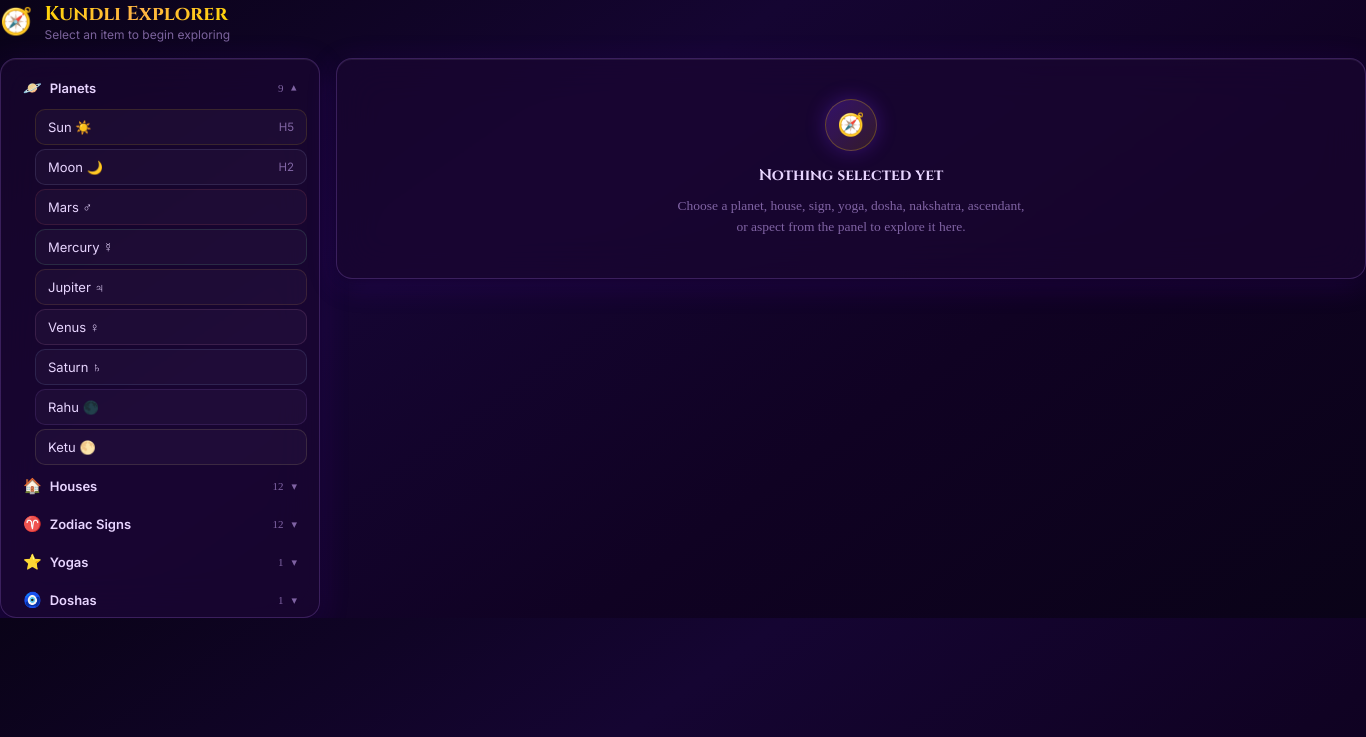
Test: Explorer selection state › selecting a different type replaces the previous selection instead of stacking
Click the list item "Sun ☀️ H5". click: {"x": 70, "y": 127}
box: [35,109,307,145]
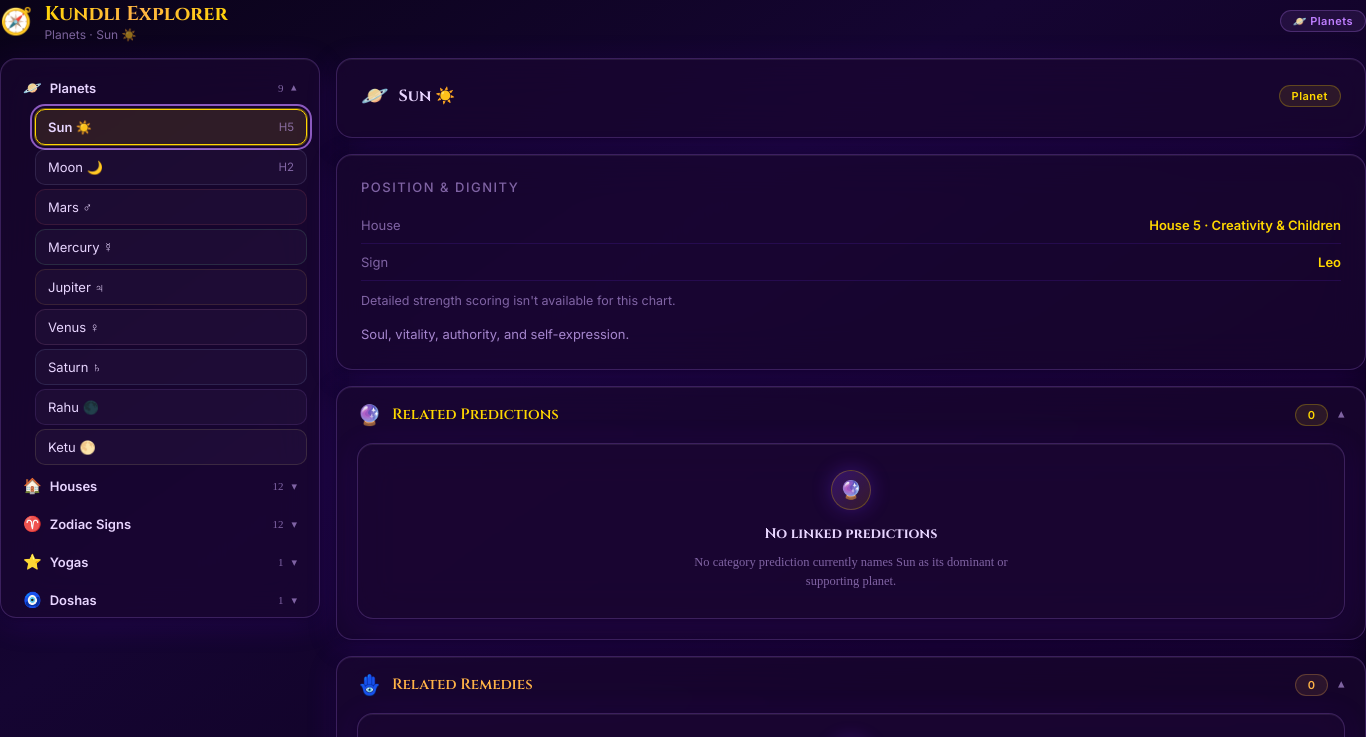
Now the heading "Sun ☀️" is shown, box [398,85,455,107]
Click the list item "🏠 Houses 12 ▾". click: {"x": 73, "y": 486}
box: [13,469,307,503]
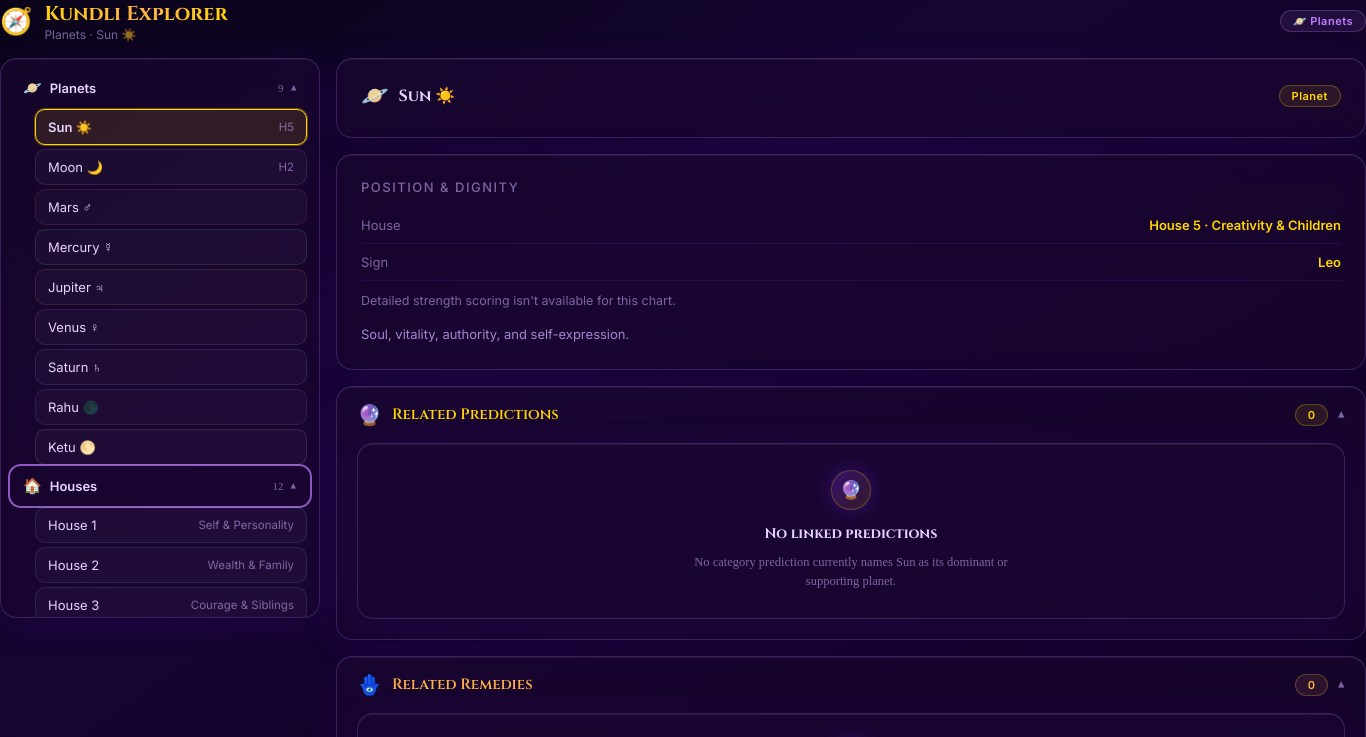
Click the list item "House 1 Self & Personality". click: {"x": 72, "y": 525}
box: [35,507,307,543]
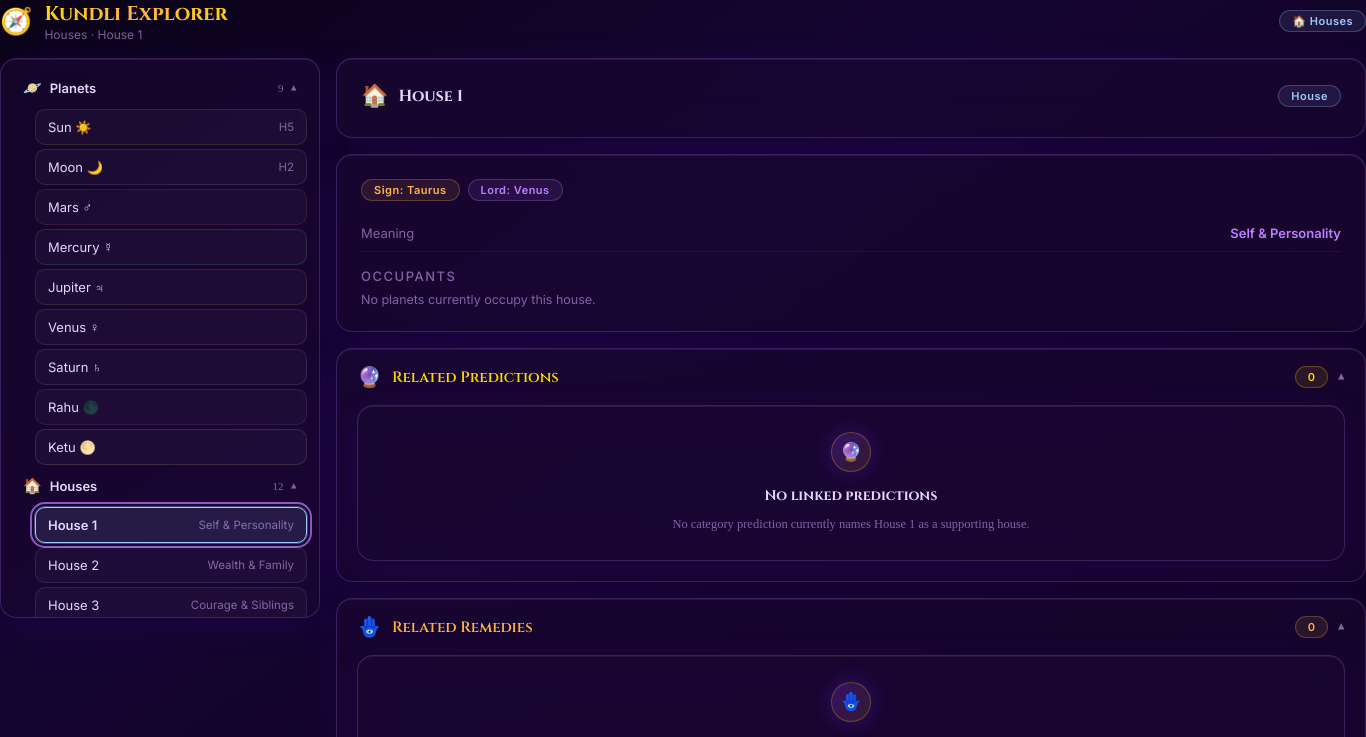
Now the text "Houses · House 1" is shown, box [44,27,142,42]
